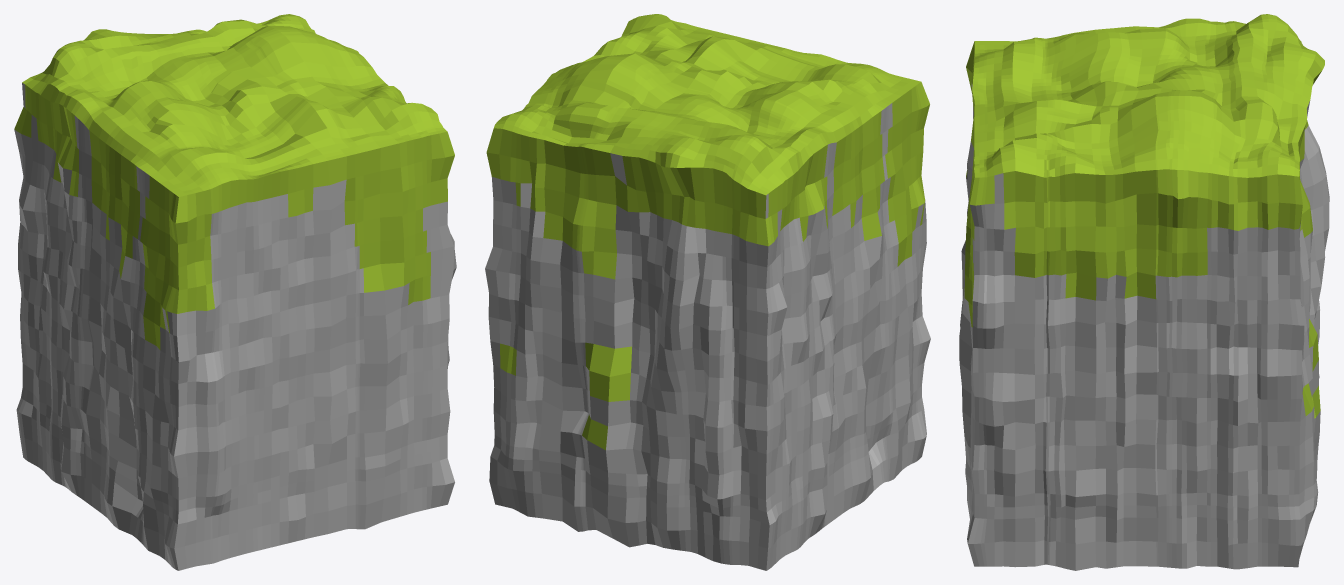
File: 점프타일2.fbx
The picture shows the model from 3 angles, left to right: view 1: azimuth 30°, elevation 25°; view 2: azimuth 150°, elevation 25°; view 3: azimuth 270°, elevation 25°; orthographic projection. The views are drawn at different scales.
Parts seen in each view (by area): view 1: 타일1; view 2: 타일1; view 3: 타일1.
Part boxes in pixels (box(x1,y1,x2,y2)): 타일1: box(14, 14, 456, 570); 타일1: box(485, 14, 930, 570); 타일1: box(959, 14, 1329, 570).
Size of the model in its own units: 323 by 444 by 337.
